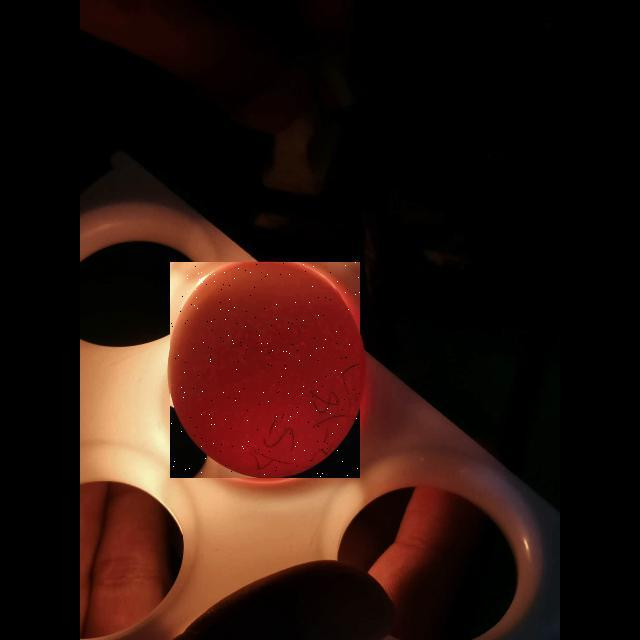Fertile: (170, 262, 360, 478)
